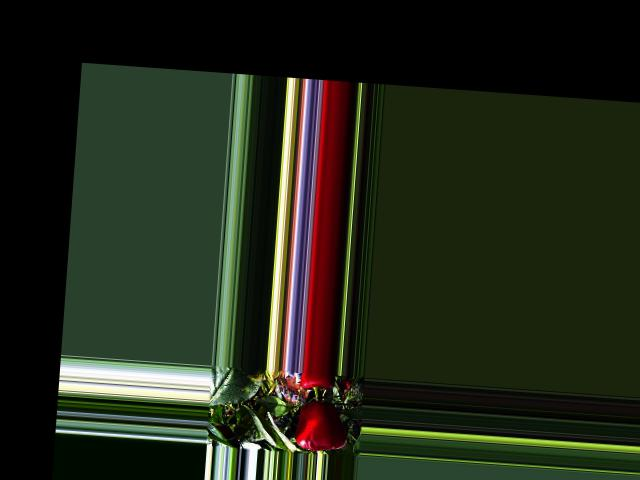bell_pepper: (295, 371, 337, 394)
